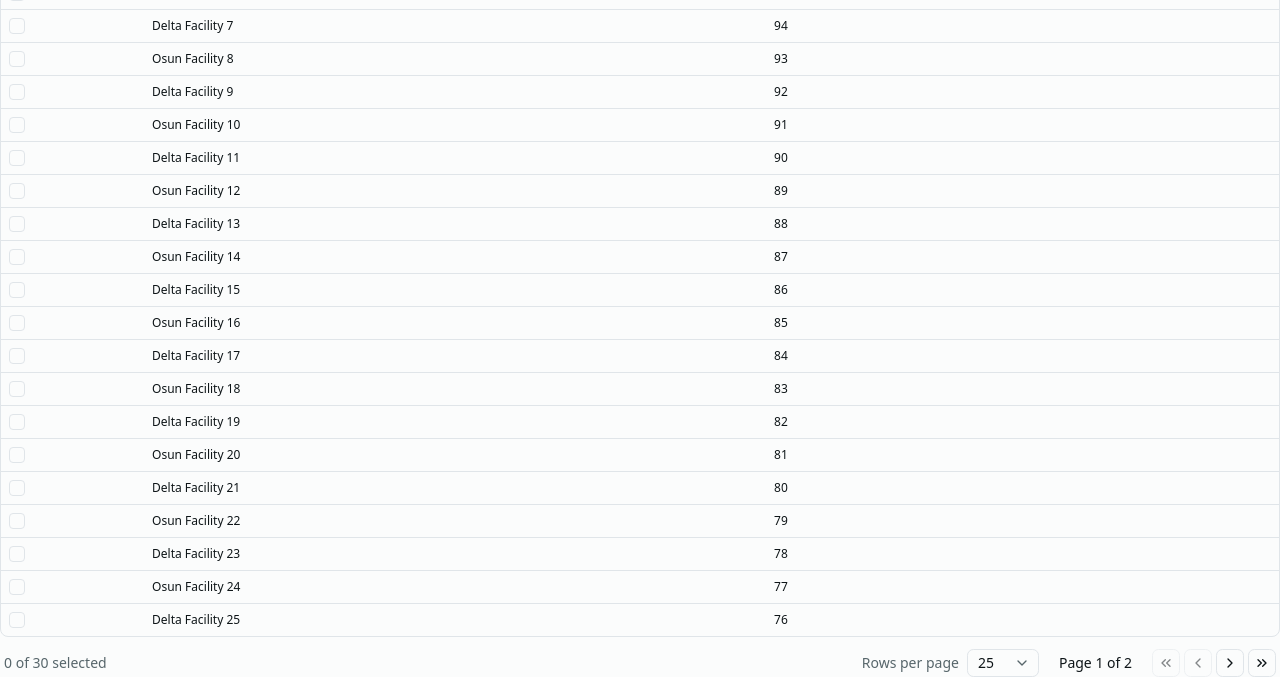
Test case: DataTable › pages rows 25 at a time and says where you are
The image size is (1280, 677).
(page scrolled)
Expected: the text "Page 1 of 2" is shown, [1059, 652, 1132, 672]
Click the button named "Next page": (1230,662) [1216, 648, 1244, 676]
(page scrolled)
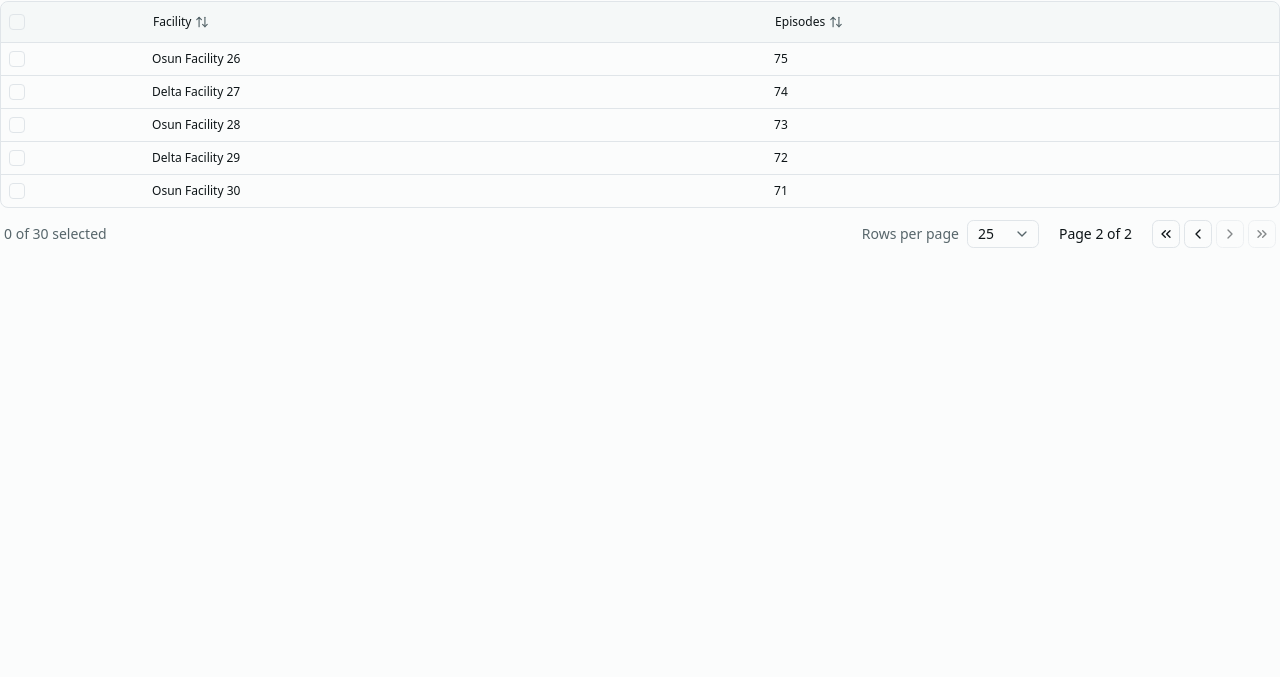
Expected: the text "Page 2 of 2" is shown, [1059, 224, 1132, 244]
Expected: the button named "Next page" is disabled, [1216, 220, 1244, 248]
